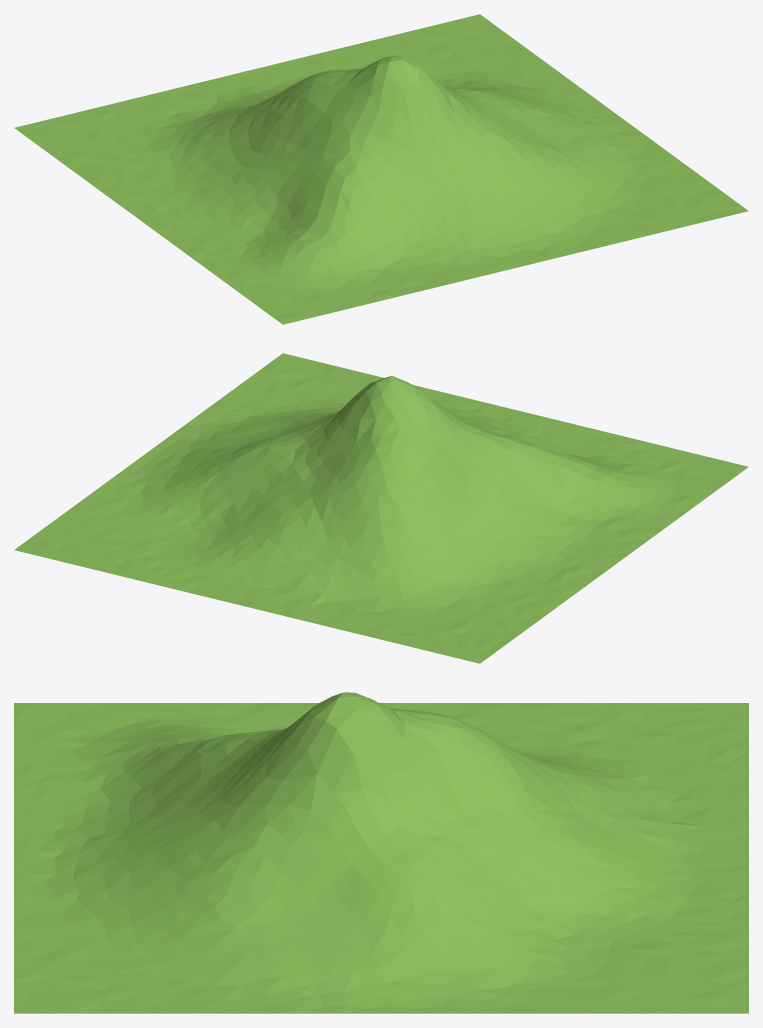
The model's file is MT_Terrain_L_a_31_LOD.fbx.
3 views of the same model, one above another, from view 1: azimuth 30°, elevation 25°; view 2: azimuth 150°, elevation 25°; view 3: azimuth 270°, elevation 25° (orthographic). The views are drawn at different scales.
Visible parts, largest first — view 1: MT_Terrain_L_a_31_LOD0; view 2: MT_Terrain_L_a_31_LOD0; view 3: MT_Terrain_L_a_31_LOD0.
Part boxes in pixels (bbox=[...]): MT_Terrain_L_a_31_LOD0: bbox=[14, 14, 748, 324]; MT_Terrain_L_a_31_LOD0: bbox=[14, 353, 748, 663]; MT_Terrain_L_a_31_LOD0: bbox=[14, 692, 748, 1013].
Size of what is drawn, in the model's own units: 10000 by 2480 by 10000.
